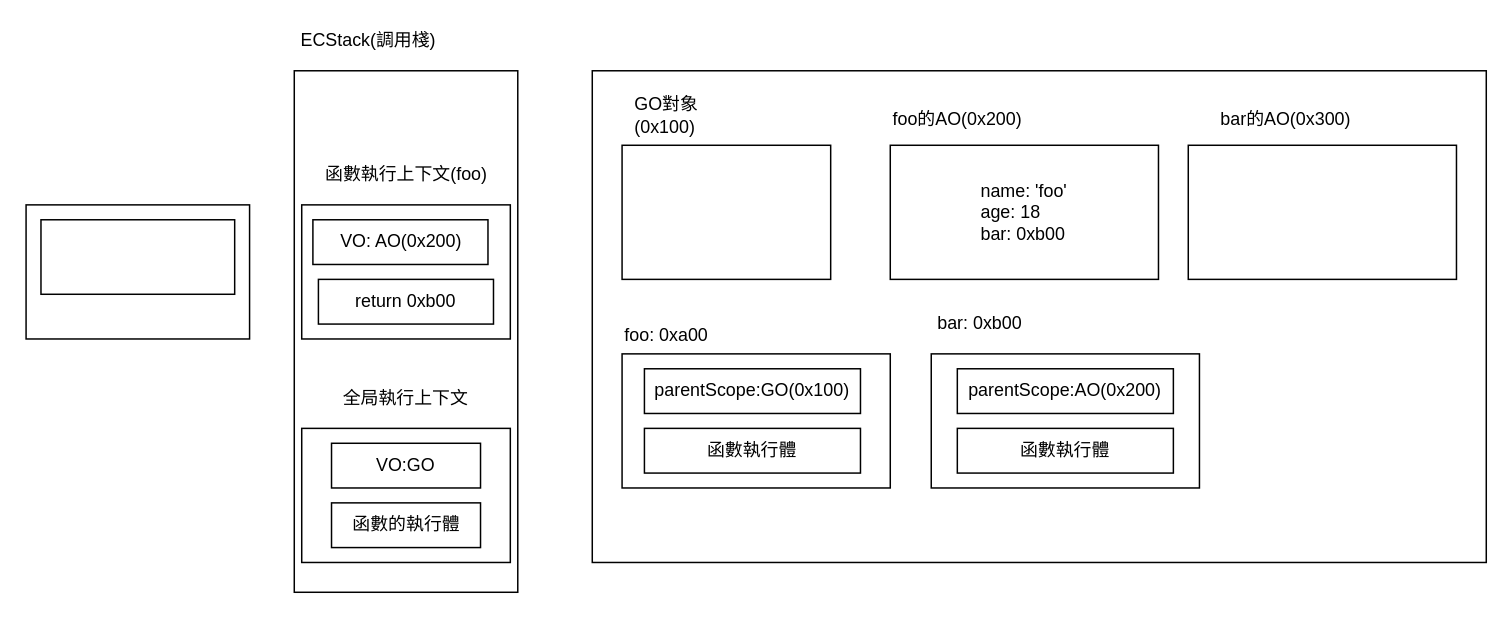
Some shapes in this 1512 by 618 pixel diagram are drawn without their labels. Each missing label, with the centre of its shape:
Date String window foo: 0xa00 fn: undefined: the point at 726,211
VO: AO Scopechain: AO + parentScope(fooA): the point at 137,256
